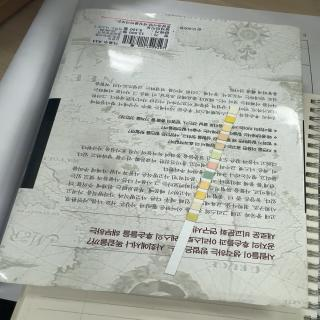mark: (187, 212, 197, 220), (190, 202, 200, 210), (196, 191, 206, 199), (204, 170, 214, 178), (211, 152, 221, 160), (218, 132, 228, 140), (199, 182, 209, 189), (216, 142, 224, 150), (208, 162, 217, 168), (223, 125, 231, 131), (226, 117, 234, 123), (230, 108, 238, 114)
